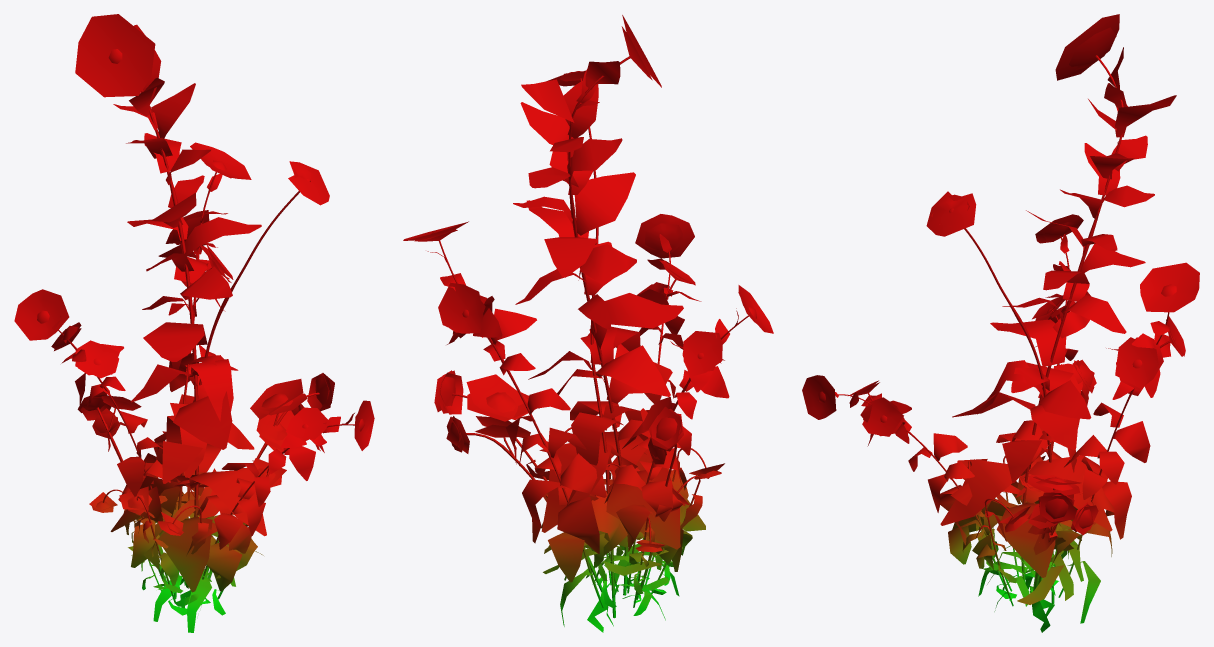
The model's file is Crownbeard_LOD1_Var3_tefoajkr.fbx.
The picture shows the model from 3 angles, left to right: view 1: azimuth 30°, elevation 25°; view 2: azimuth 150°, elevation 25°; view 3: azimuth 270°, elevation 25°; orthographic projection. The views are drawn at different scales.
Visible parts, largest first — view 1: _7e50_Var3_LOD1; view 2: _7e50_Var3_LOD1; view 3: _7e50_Var3_LOD1.
Part boxes in pixels (bbox=[...]): _7e50_Var3_LOD1: bbox=[14, 14, 374, 632]; _7e50_Var3_LOD1: bbox=[403, 15, 773, 632]; _7e50_Var3_LOD1: bbox=[802, 14, 1199, 632].
Size of the model in its own units: 37.48 by 69.52 by 42.33.
